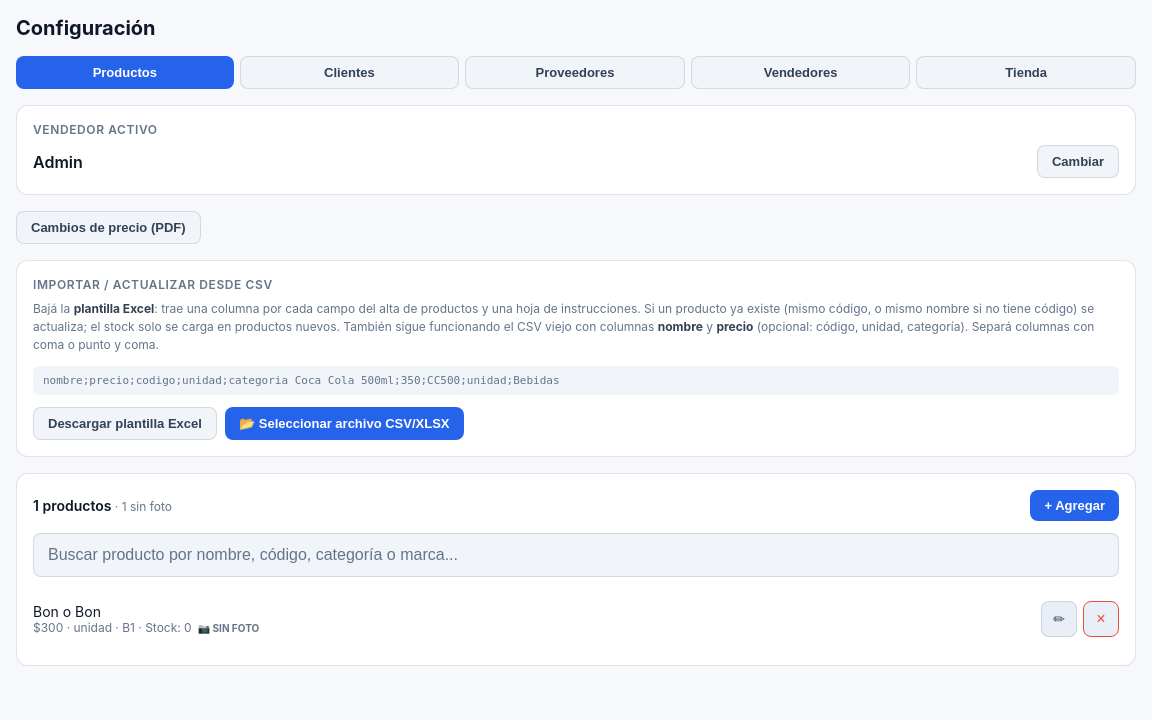
it: editar producto con foto › AC-FOT-1 el lápiz abre el formulario arriba de todo, sin la lista abajo, y vuelve al inicio
The width and height of the screenshot is (1152, 720).
Click the button "✏" at (1059, 619), box [1041, 601, 1077, 637]
(page scrolled)
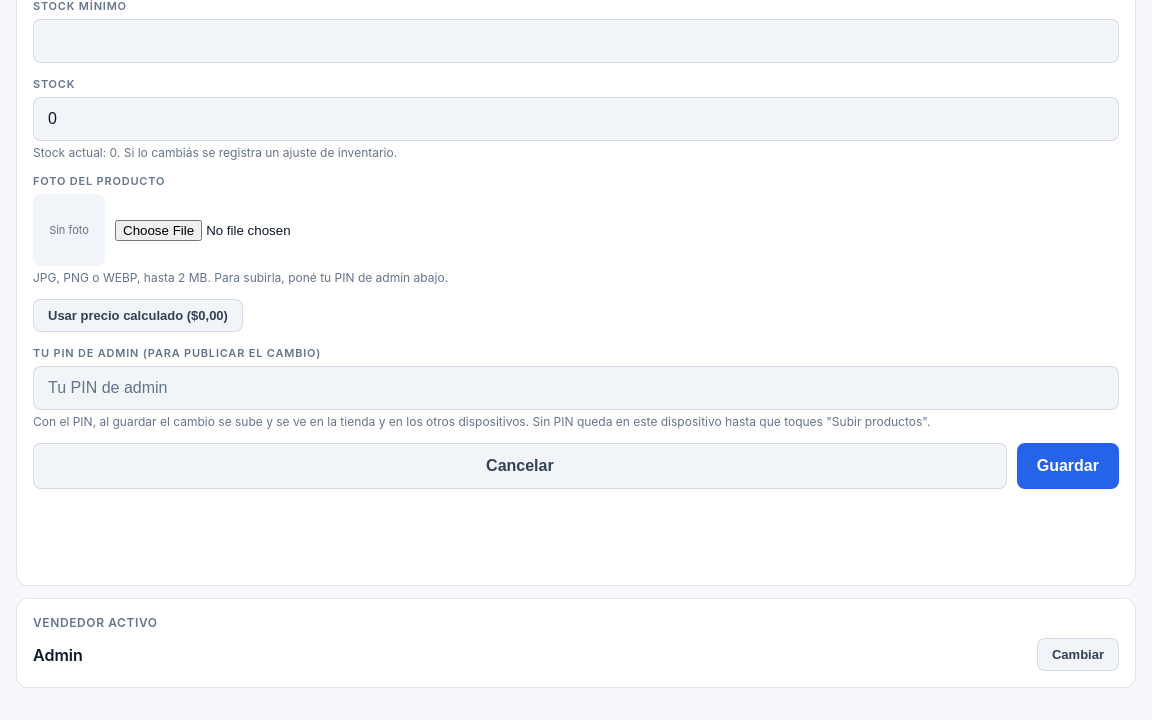
Result: the element with class "list-item" is gone
Click the button "Cancelar" at (520, 466), box [33, 443, 1007, 489]
(page scrolled)
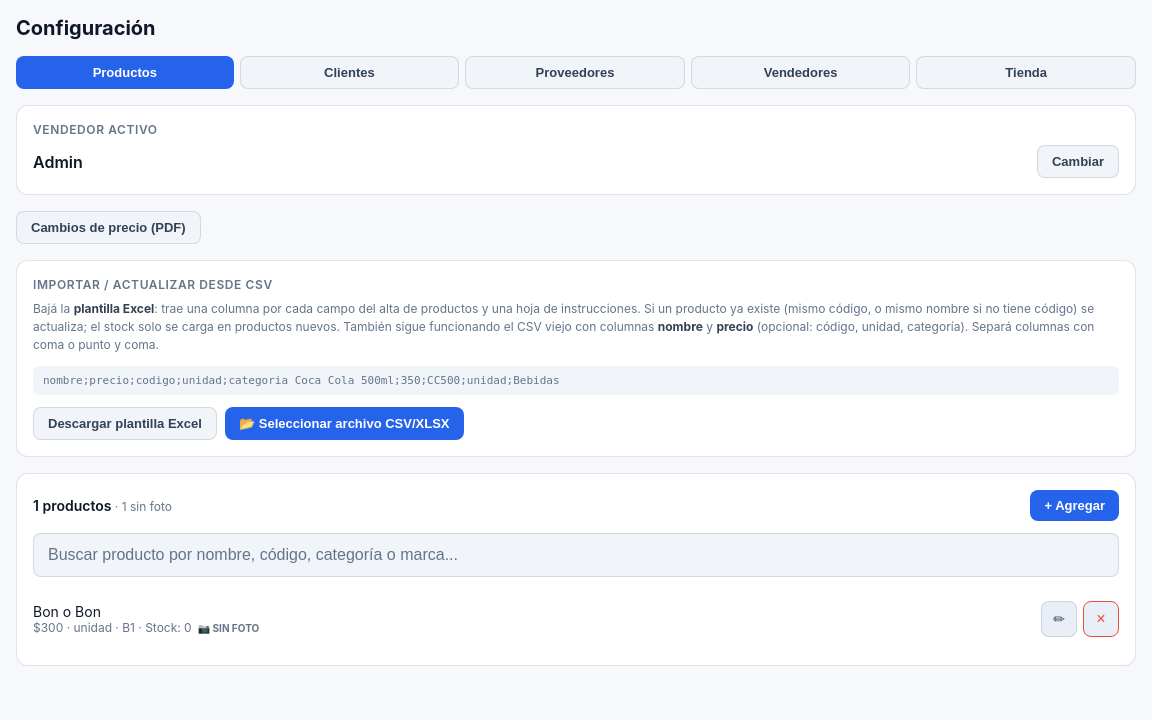
Result: the element with class "list-item" is shown at [33, 589, 1119, 649]
